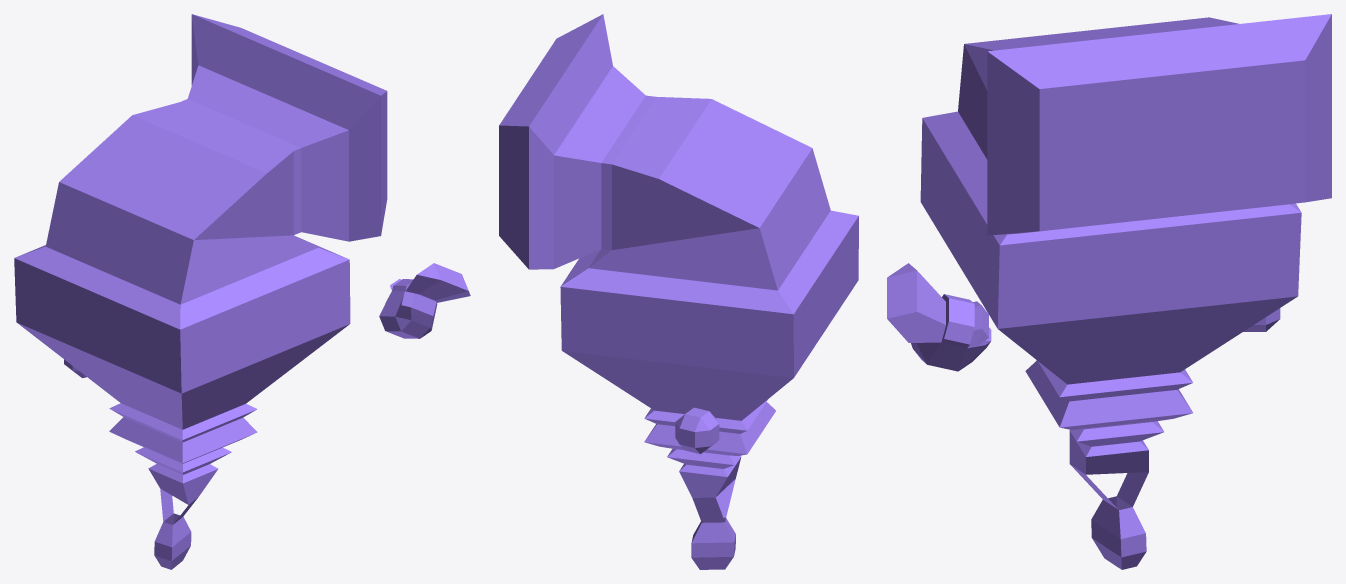
Rendered from Vahglitch.fbx.
3 views of the same model, side by side, from view 1: azimuth 30°, elevation 25°; view 2: azimuth 150°, elevation 25°; view 3: azimuth 270°, elevation 25° (orthographic). The views are drawn at different scales.
Visible parts, largest first — view 1: Vahglitch; view 2: Vahglitch; view 3: Vahglitch.
Part boxes in pixels (bbox=[...]): Vahglitch: bbox=[14, 14, 470, 569]; Vahglitch: bbox=[499, 14, 858, 569]; Vahglitch: bbox=[887, 14, 1331, 569].
Size of the model in its own units: 1010 by 1338 by 880.
